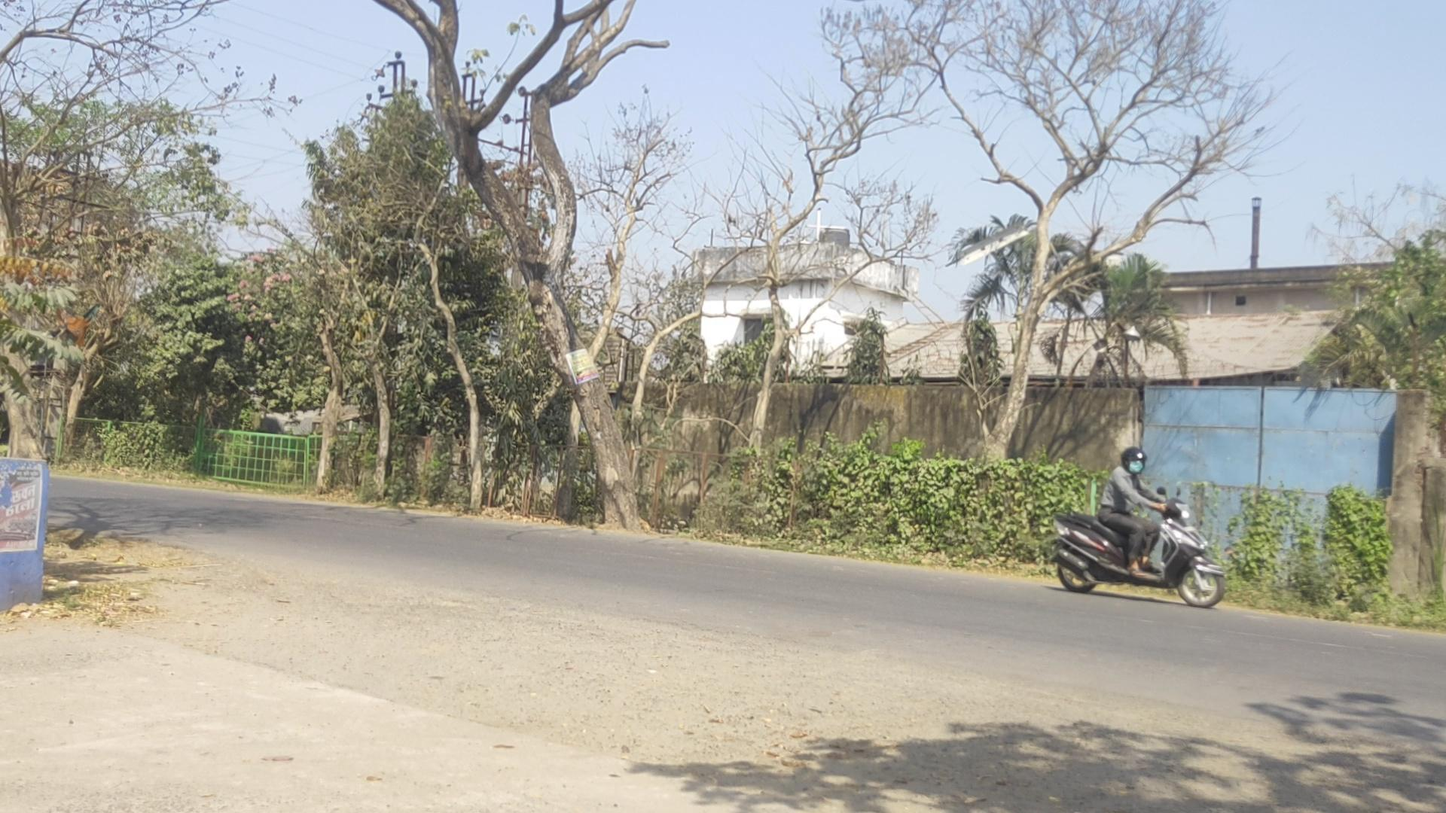bike: (1051, 446, 1226, 609)
